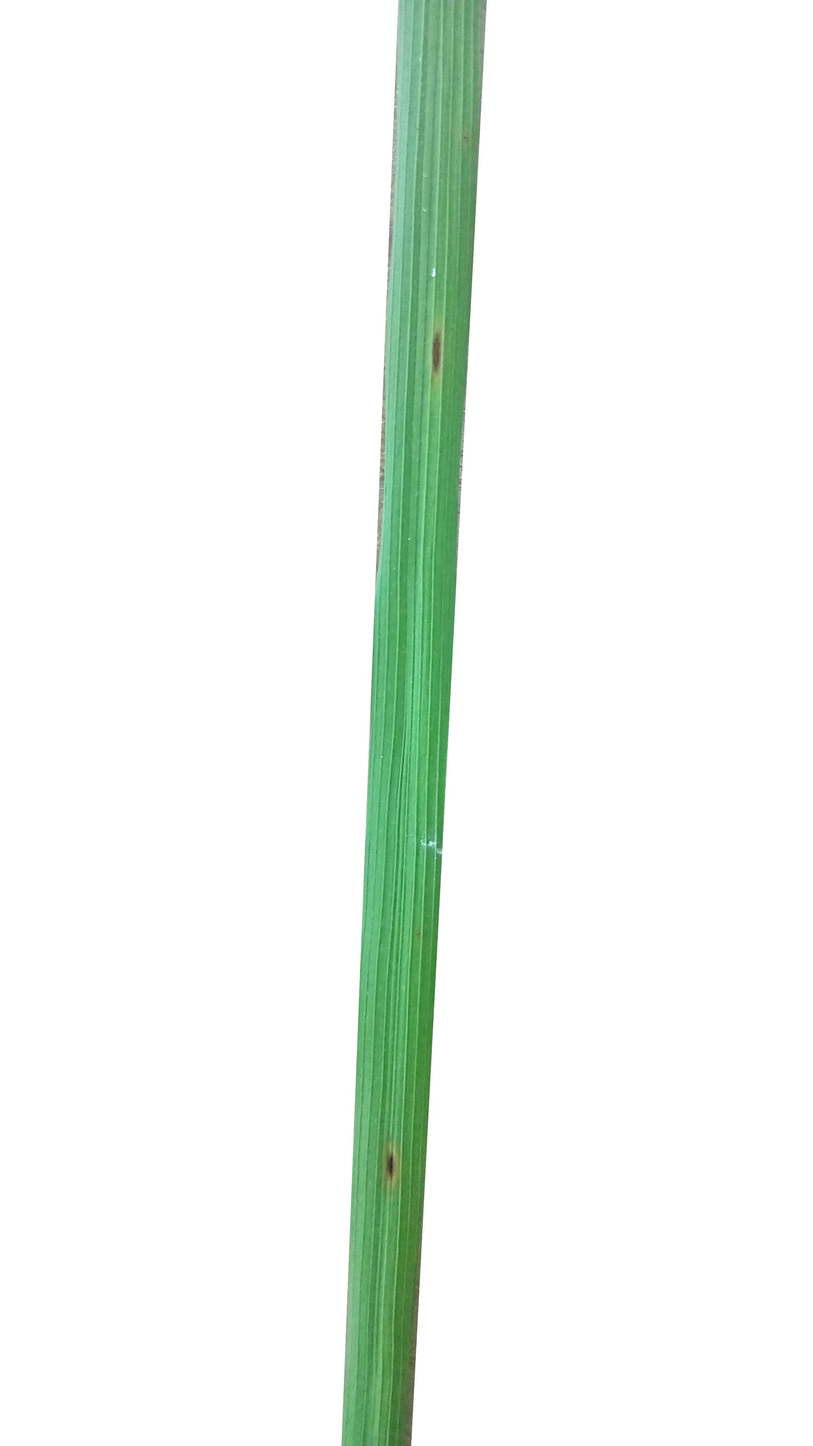Brown spot: (372, 1116, 424, 1196)
